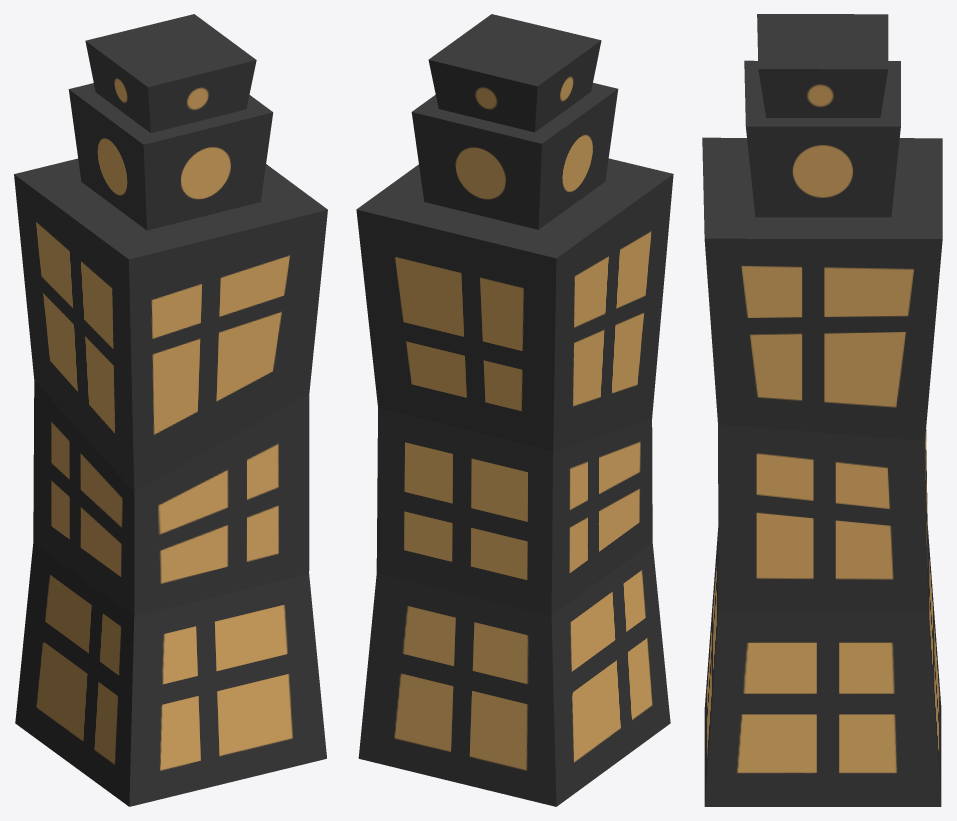
File: building (3).fbx
3 renders of one model, left to right at view 1: azimuth 30°, elevation 25°; view 2: azimuth 150°, elevation 25°; view 3: azimuth 270°, elevation 25°, orthographic. The views are drawn at different scales.
Visible parts, largest first — view 1: Cube.001; view 2: Cube.001; view 3: Cube.001.
Part boxes in pixels (<box>): Cube.001: <box>14,14,327,806</box>; Cube.001: <box>356,14,673,806</box>; Cube.001: <box>702,14,942,806</box>.
Bounding box in the file's own units: 230 × 755 × 230.
1 material, 1 textured.
